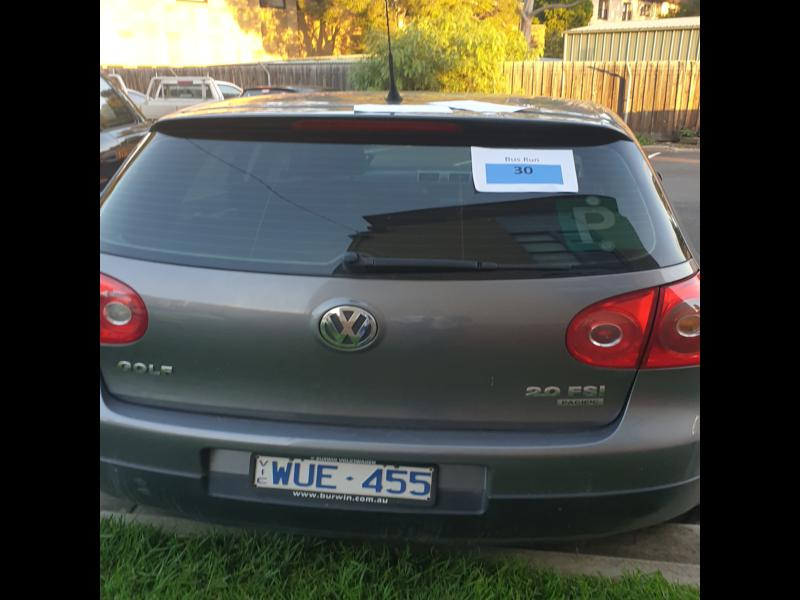BusRun: (485, 163, 564, 185)
PlateNo: (251, 455, 437, 502)
